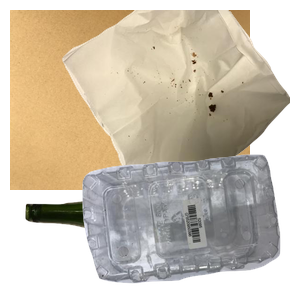cardboard: (10, 10, 250, 190)
glass: (23, 186, 249, 300)
plastic: (80, 152, 300, 300)
trash: (60, 10, 300, 190)
